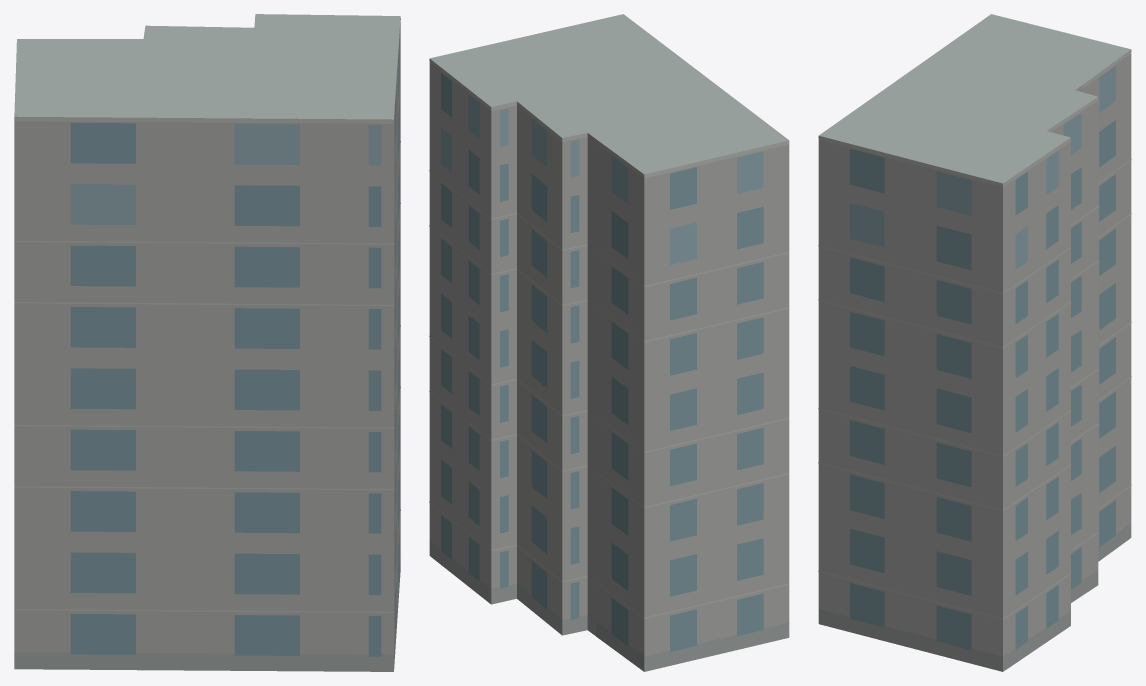
Rendered from survey-upis-32743262.glb.
3 renders of one model, left to right at view 1: azimuth 30°, elevation 25°; view 2: azimuth 150°, elevation 25°; view 3: azimuth 270°, elevation 25°, orthographic. The views are drawn at different scales.
Parts seen in each view (by area): view 1: survey-upis-32743262.tmp; view 2: survey-upis-32743262.tmp; view 3: survey-upis-32743262.tmp.
Boxes of the visible parts, box(x1,y1,x2,y2) form: survey-upis-32743262.tmp: box(14, 14, 400, 671); survey-upis-32743262.tmp: box(429, 14, 789, 671); survey-upis-32743262.tmp: box(818, 14, 1131, 671).
Size of the model in its own units: 22.58 by 30.3 by 17.61.
